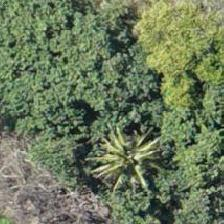coconut_tree: (84, 113, 174, 203)
